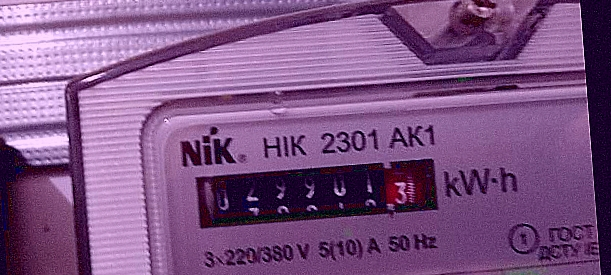0: (212, 184, 232, 212), (330, 169, 348, 199)
1: (361, 166, 376, 195)
2: (241, 175, 261, 204)
3: (391, 178, 410, 205)
9: (271, 173, 289, 201), (302, 172, 317, 200)
screen: (185, 147, 450, 239)
